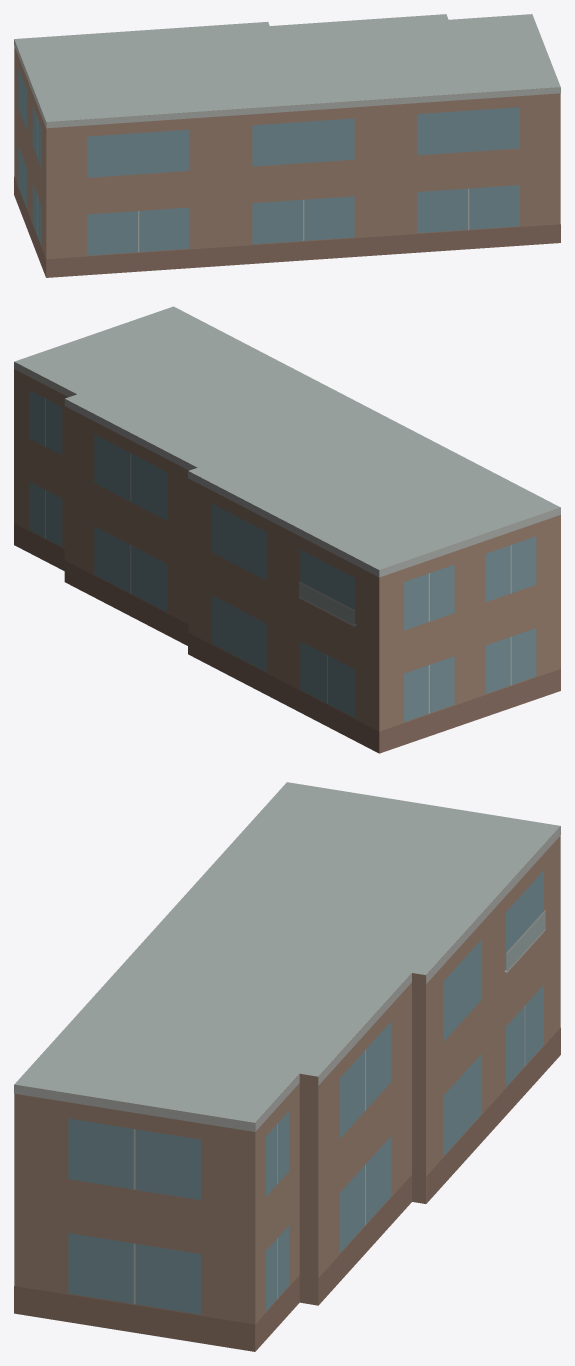
File: survey-upis-32687965.glb
The picture shows the model from 3 angles, top to bottom: view 1: azimuth 30°, elevation 25°; view 2: azimuth 150°, elevation 25°; view 3: azimuth 270°, elevation 25°; orthographic projection. The views are drawn at different scales.
Visible parts, largest first — view 1: survey-upis-32687965.tmp; view 2: survey-upis-32687965.tmp; view 3: survey-upis-32687965.tmp.
Part boxes in pixels (x1,y1,x2,y2): survey-upis-32687965.tmp: [14, 14, 560, 277]; survey-upis-32687965.tmp: [14, 306, 560, 753]; survey-upis-32687965.tmp: [14, 782, 560, 1351].
Size of the model in its own units: 19.49 by 6.1 by 13.21.
